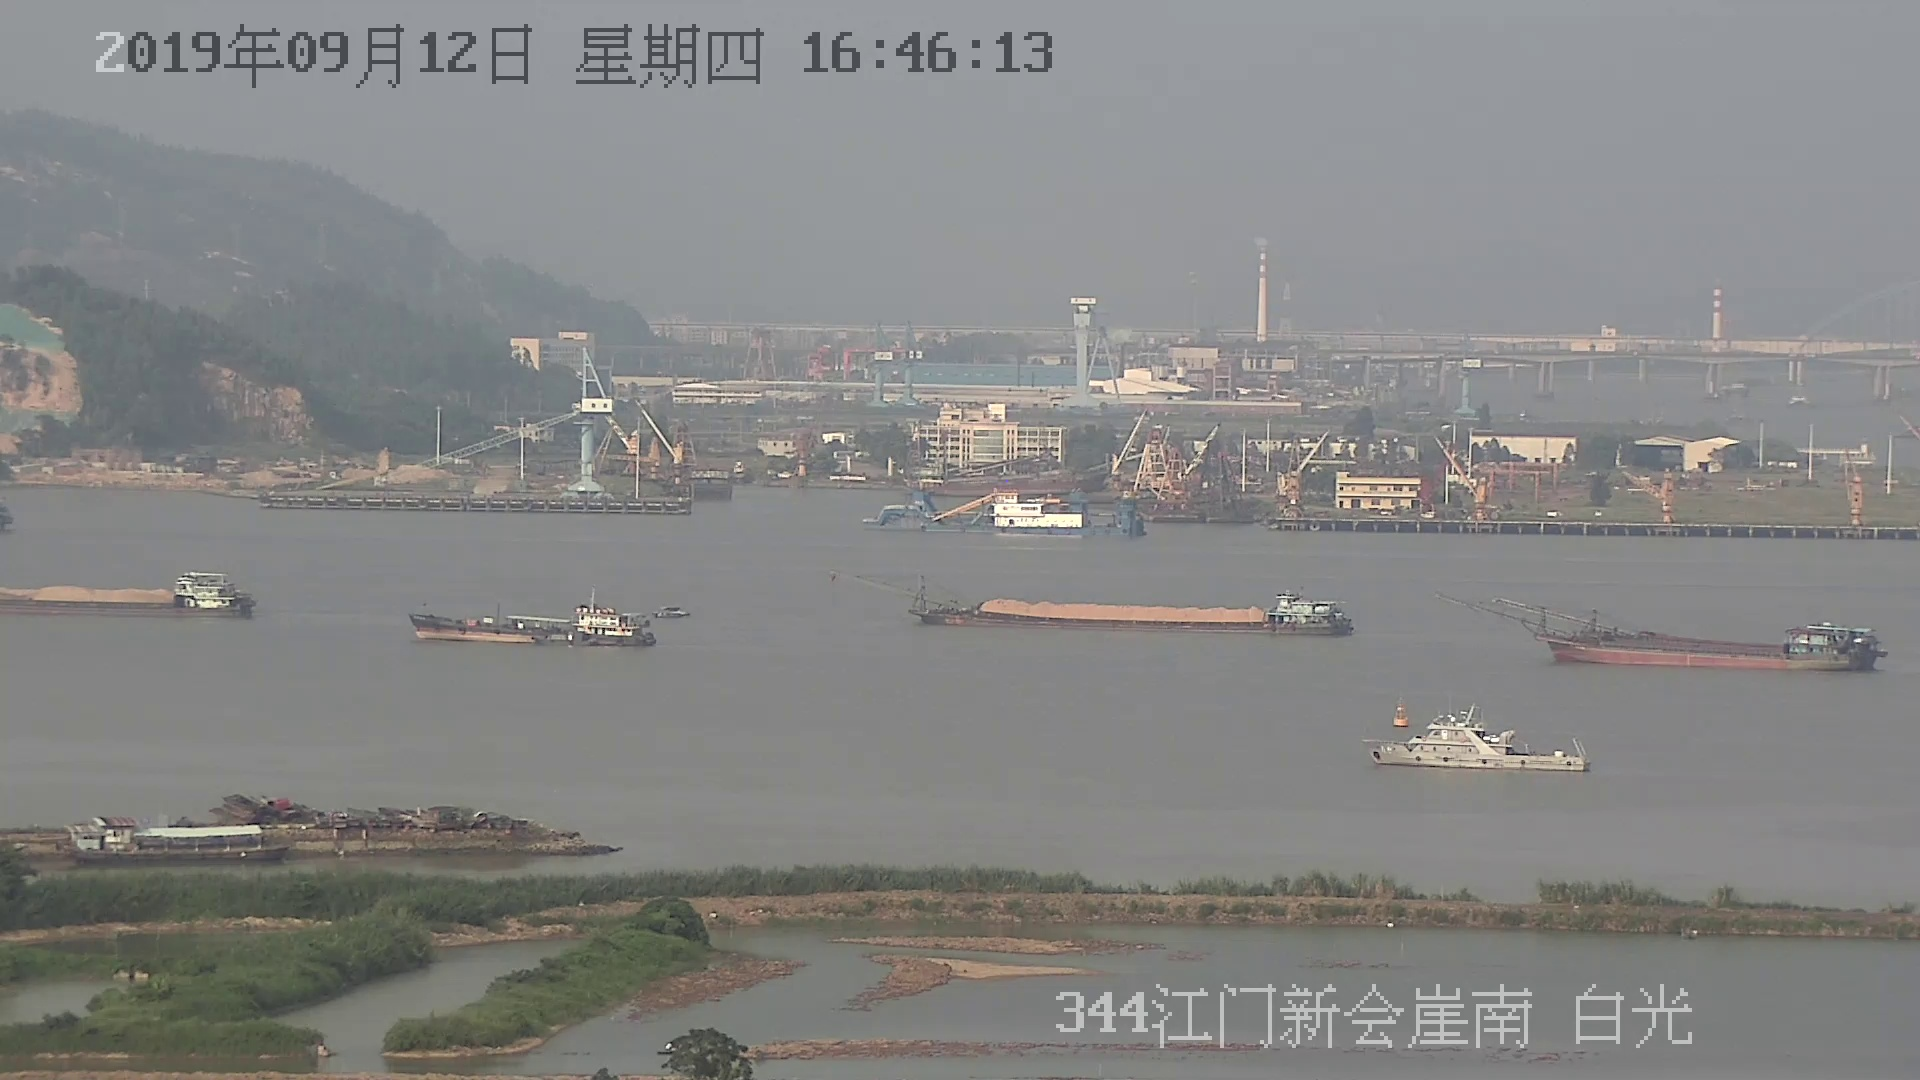ship: (909, 579, 1354, 636), (1534, 603, 1884, 670), (1366, 704, 1588, 774), (411, 587, 653, 646), (1, 567, 257, 615)
